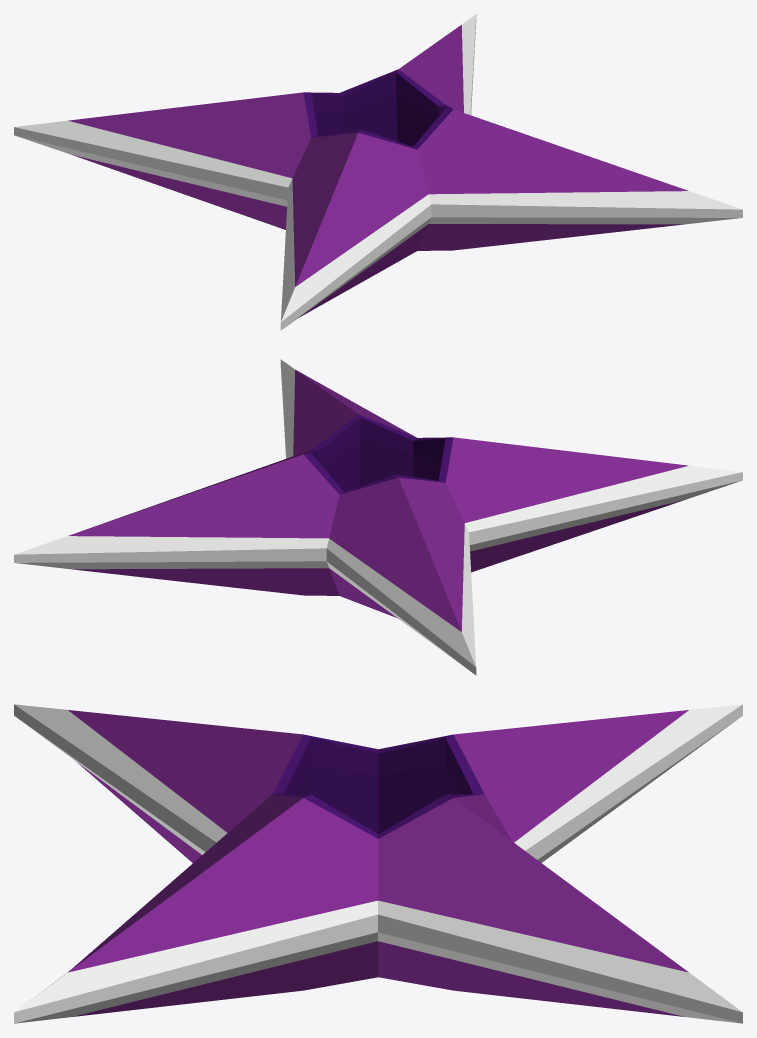
The model's file is Shuriken.glb.
3 renders of one model, top to bottom at view 1: azimuth 30°, elevation 25°; view 2: azimuth 150°, elevation 25°; view 3: azimuth 270°, elevation 25°, orthographic. The views are drawn at different scales.
Parts seen in each view (by area): view 1: Cube; view 2: Cube; view 3: Cube.
Part boxes in pixels (<box>): Cube: <box>14,14,742,330</box>; Cube: <box>14,359,742,675</box>; Cube: <box>14,704,742,1023</box>.
Size of the model in its own units: 2 by 0.5835 by 2.
